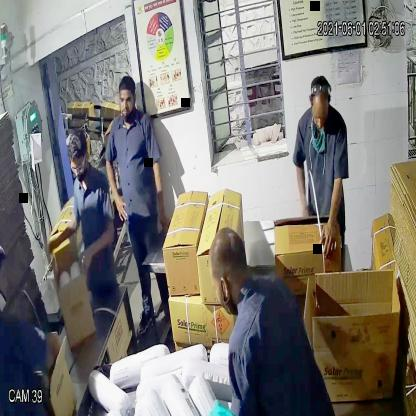goggles: (66, 156, 92, 180)
no_goggles: (306, 106, 332, 130), (115, 92, 138, 108)
